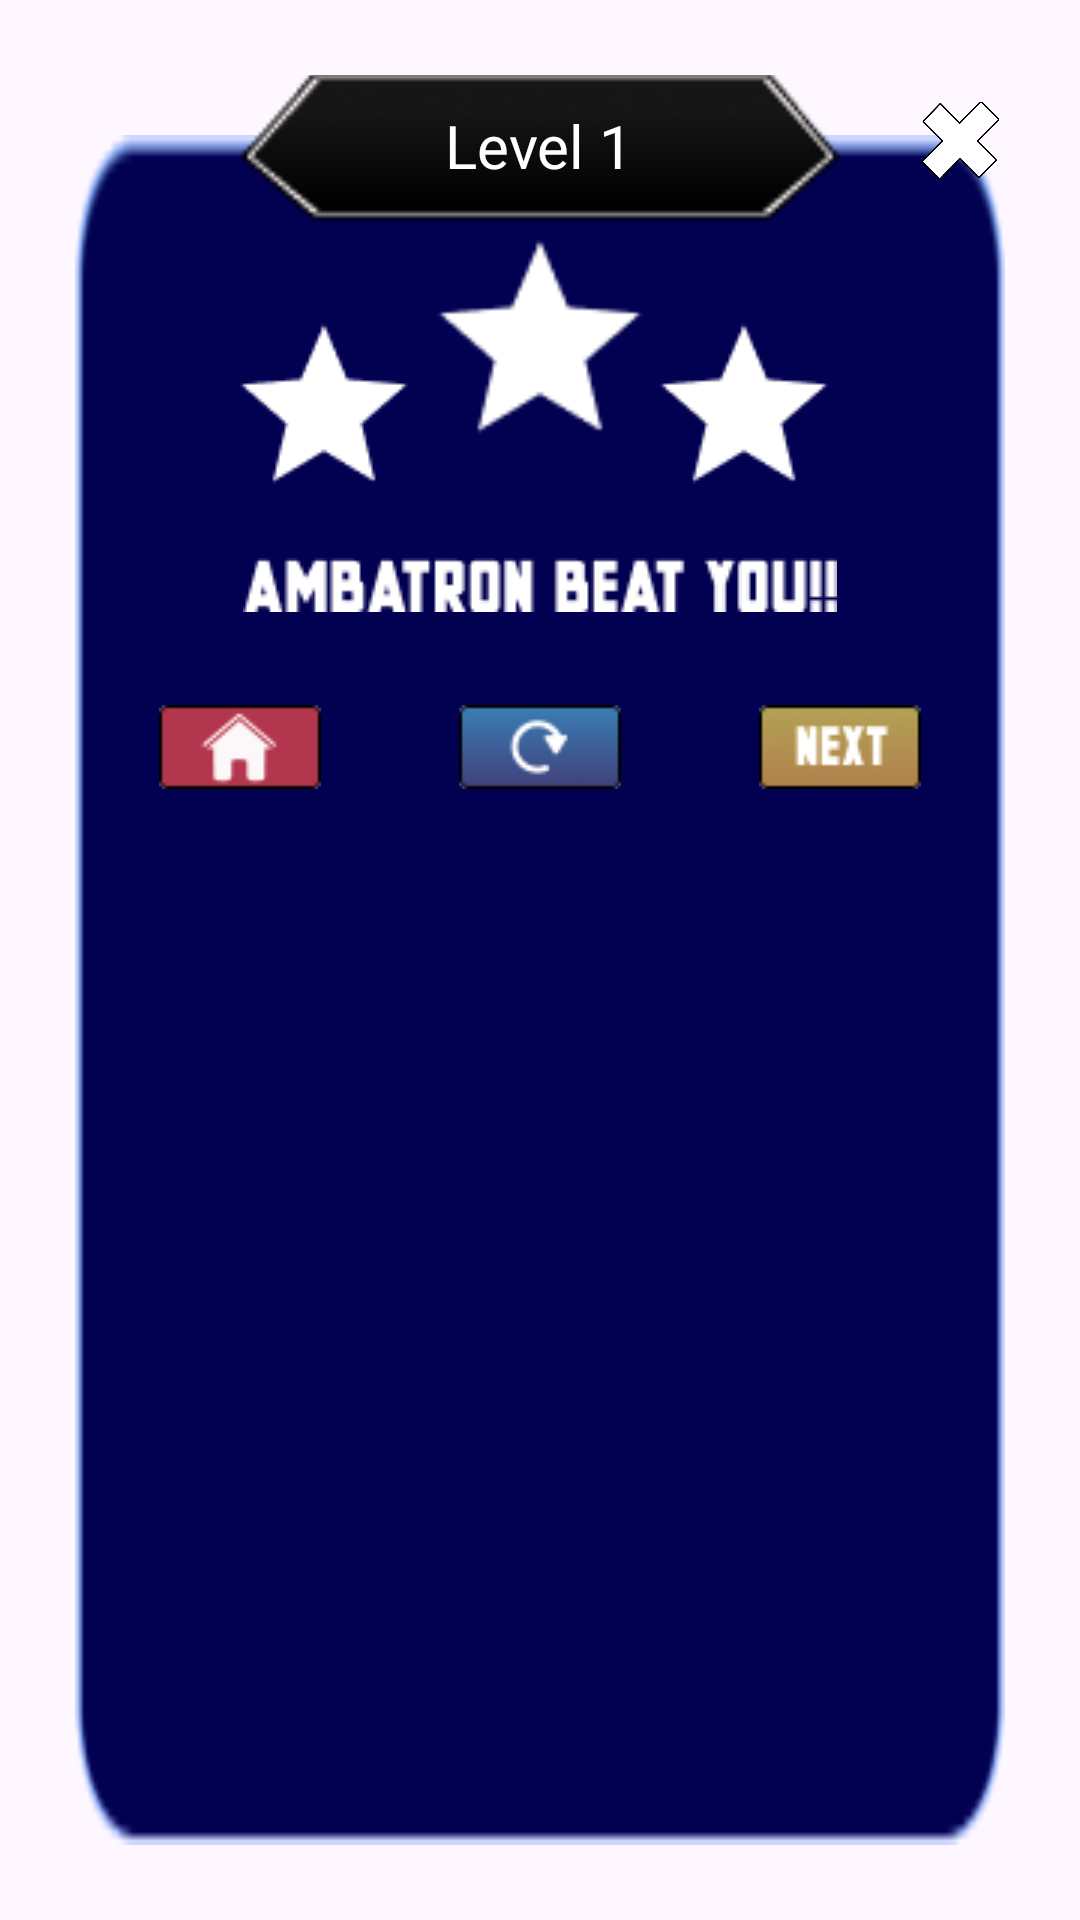

Icons on this 1080 x 1920 Android screen, each with its box as (x1, y1, x2, y2):
game info home: (159, 705, 321, 789)
game info retry: (459, 705, 621, 789)
silang: (921, 102, 999, 180)
